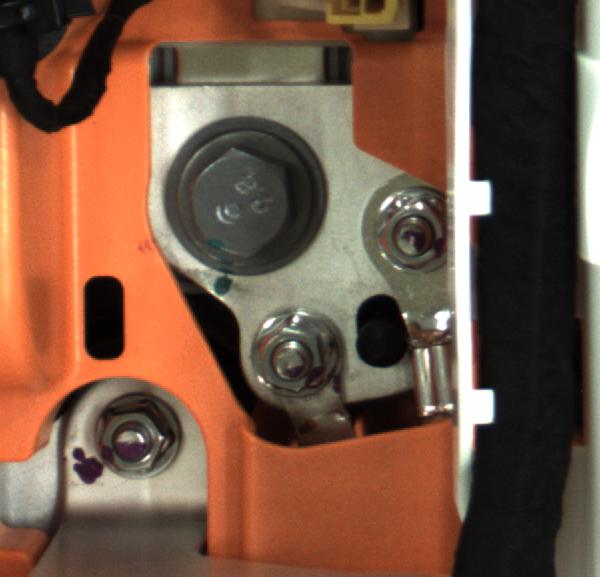screw_s: (246, 305, 352, 397), (83, 396, 189, 480), (362, 188, 440, 285)
